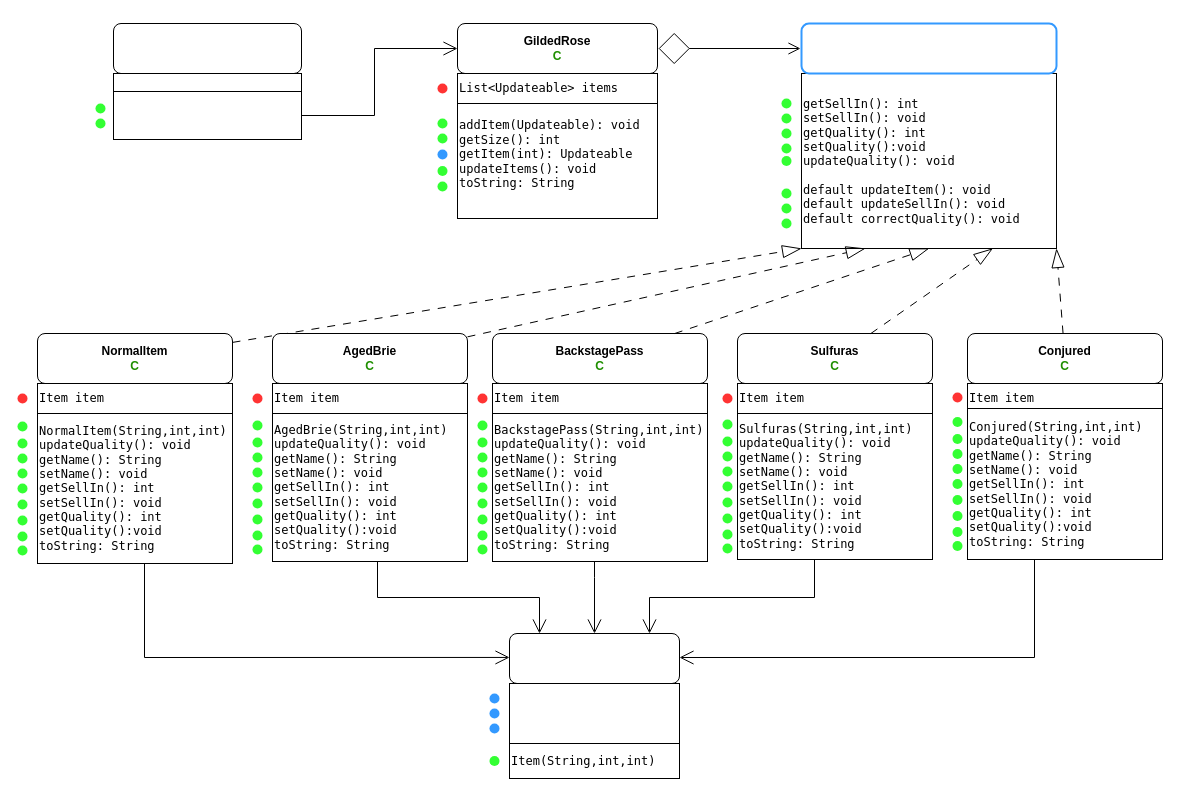
The diagram is 1180 pixels wide and 796 high, and some of its shapes have lost their labels. Here are the shapes that lost their labels. From the top down, the centre of each, then its label:
At [207,48]: "App C".
At [928,48]: "Updateable I".
At [207,115]: "App() main(String[]): void".
At [594,658]: "Item C".
At [594,713]: "String name int sellIn int quality".
